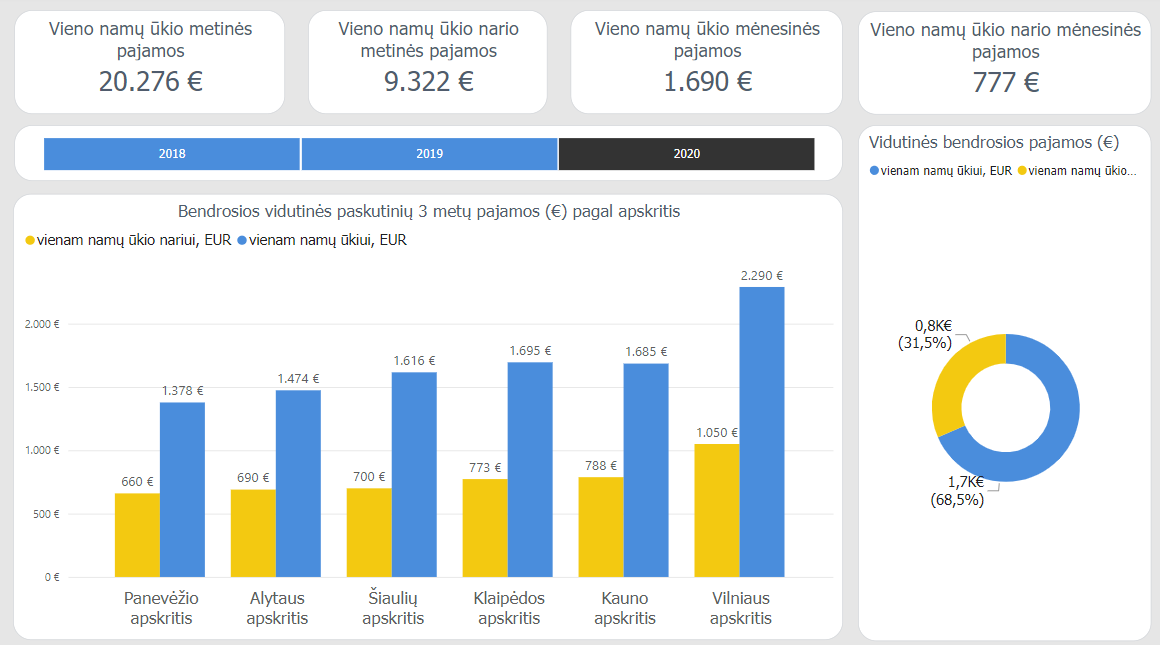

What the dashboard file says about the page in this screenshot:
{"tool":"powerbi","page":{"name":"Vidutinės pajamos per mėnesį","canvas":[1280,720],"ordinal":4},"visuals":[{"type":"kpi","title":"Vieno namų ūkio metinės pajamos","fields":{"TrendLine":["Datos.Data"],"Indicator":["Bendrosios Pajamos per Mėnesį.Bendrosios Pajamos per Mėnesį (€)"]},"box":[17.8,16.2,297.4,114.7],"z":0},{"type":"kpi","title":"Vieno namų ūkio nario metinės pajamos","fields":{"TrendLine":["Datos.Data"],"Indicator":["Bendrosios Pajamos per Mėnesį.Bendrosios Pajamos per Mėnesį (€)"]},"box":[340.4,16.4,263.1,114.5],"z":1000},{"type":"kpi","title":"Vieno namų ūkio mėnesinės pajamos","fields":{"TrendLine":["Datos.Data"],"Indicator":["Bendrosios Pajamos per Mėnesį.Vidutinės Bendrosios Pajamos per Mėnesį (EUR)"]},"box":[628.7,16.2,299,114.7],"z":2000},{"type":"kpi","title":"Vieno namų ūkio nario mėnesinės pajamos","fields":{"TrendLine":["Datos.Data"],"Indicator":["Bendrosios Pajamos per Mėnesį.Vidutinės Bendrosios Pajamos per Mėnesį (EUR)"]},"box":[944.9,17.9,322.7,114],"z":3000},{"type":"slicer","fields":{"Values":["Datos.Metai"]},"box":[17.9,142.8,910.6,61.8],"z":4000},{"type":"donutChart","title":"Vidutinės bendrosios pajamos (€)","fields":{"Y":["Bendrosios Pajamos per Mėnesį.Vidutinės Bendrosios Pajamos per Mėnesį (EUR)"],"Category":["Bendrosios Pajamos per Mėnesį.Matavimo vienetai"]},"box":[944.9,142.8,322.7,567.2],"z":5000},{"type":"clusteredColumnChart","title":"Bendrosios vidutinės paskutinių 3 metų pajamos (€) pagal apskritis","fields":{"Category":["Bendrosios Pajamos per Mėnesį.Apskritys"],"Series":["Bendrosios Pajamos per Mėnesį.Matavimo vienetai"],"Y":["Bendrosios Pajamos per Mėnesį.Vidutinės Bendrosios Pajamos per Mėnesį (EUR)"]},"box":[16.5,218.4,911.9,490.3],"z":6000}]}

Visuals, with their boxes in screenshot pixels (x1, y1, x2, y2), scaled from the page's 1280x720 canvas onto the 1160x645 screenshot:
"Vieno namų ūkio metinės pajamos" kpi: 16/15/286/117
"Vieno namų ūkio nario metinės pajamos" kpi: 308/15/547/117
"Vieno namų ūkio mėnesinės pajamos" kpi: 570/15/841/117
"Vieno namų ūkio nario mėnesinės pajamos" kpi: 856/16/1149/118
slicer - Datos.Metai: 16/128/841/183
"Vidutinės bendrosios pajamos (€)" donutChart: 856/128/1149/636
"Bendrosios vidutinės paskutinių 3 metų pajamos (€) pagal apskritis" clusteredColumnChart: 15/196/841/635
